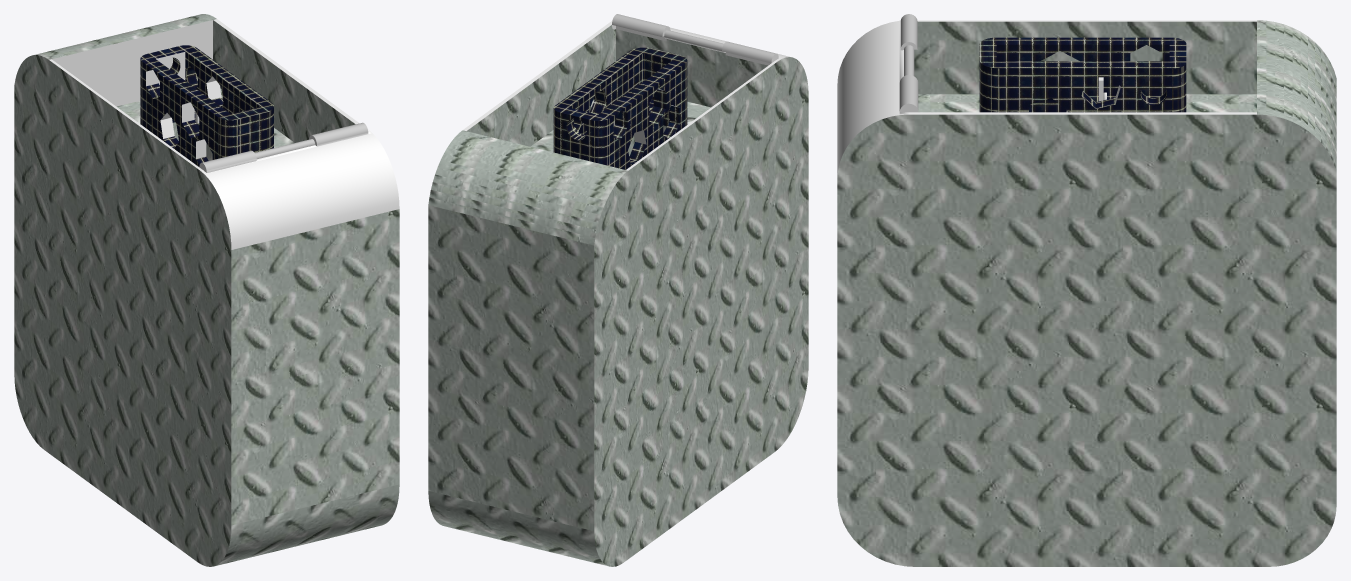
Rendered from original-1.obj.
The picture shows the model from 3 angles, left to right: view 1: azimuth 30°, elevation 25°; view 2: azimuth 150°, elevation 25°; view 3: azimuth 270°, elevation 25°; orthographic projection. The views are drawn at different scales.
Parts seen in each view (by area): view 1: mesh1/mesh1-geometry#mesh1-geometry; view 2: mesh1/mesh1-geometry#mesh1-geometry; view 3: mesh1/mesh1-geometry#mesh1-geometry.
Boxes of the visible parts, x1,y1,x2,y2 form: mesh1/mesh1-geometry#mesh1-geometry: (14, 14, 399, 566); mesh1/mesh1-geometry#mesh1-geometry: (428, 14, 808, 566); mesh1/mesh1-geometry#mesh1-geometry: (837, 14, 1336, 566).
Size of the model in its own units: 0.394 by 0.9084 by 0.8813.
